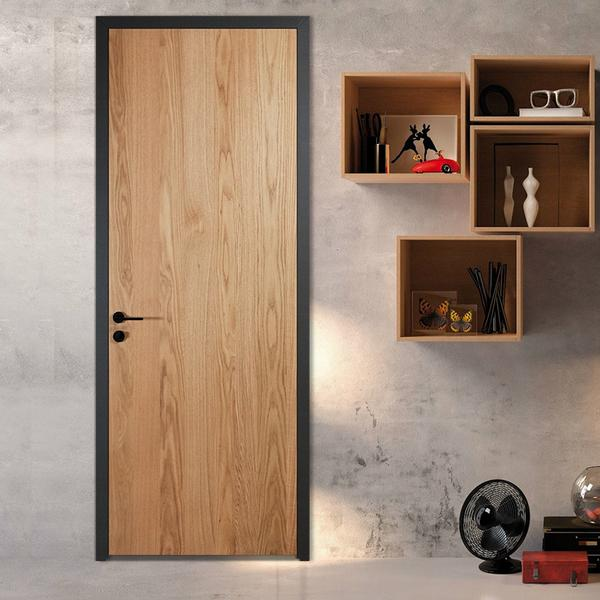door: (113, 33, 298, 558)
